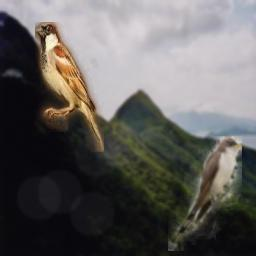Cuckoo: (168, 136, 242, 251)
Sparrow: (35, 22, 104, 152)
